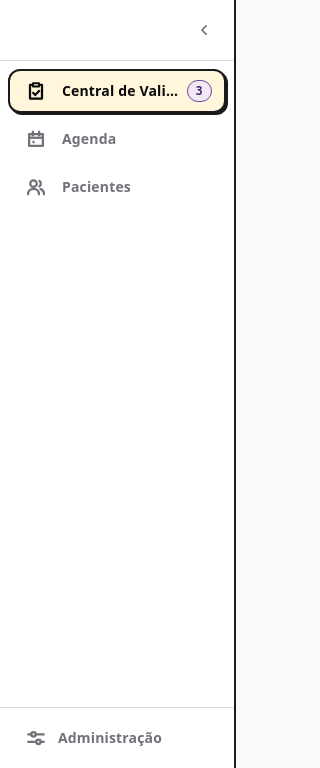
Rail — T08 (R-24 … R-27) › R-22 — menu de administração no rodapé › abre e lista os itens de administração ao acionar o gatilho
Click the button with aria-label "Menu do usuário": coordinates (117, 738) [8,716,226,760]
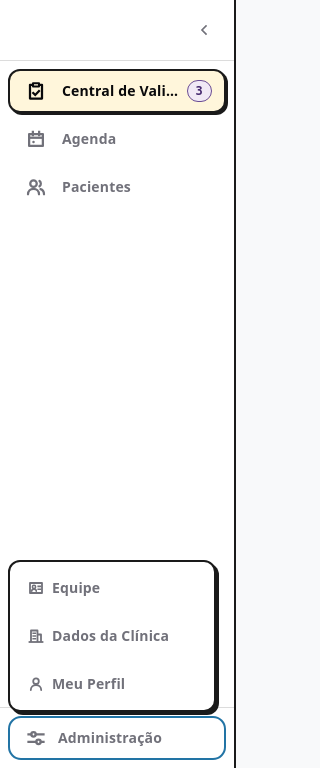
Expected: the text "Equipe" is shown, [52,578,100,598]
Expected: the text "Dados da Clínica" is shown, [52,626,169,646]
Expected: the text "Meu Perfil" is shown, [52,674,125,694]
